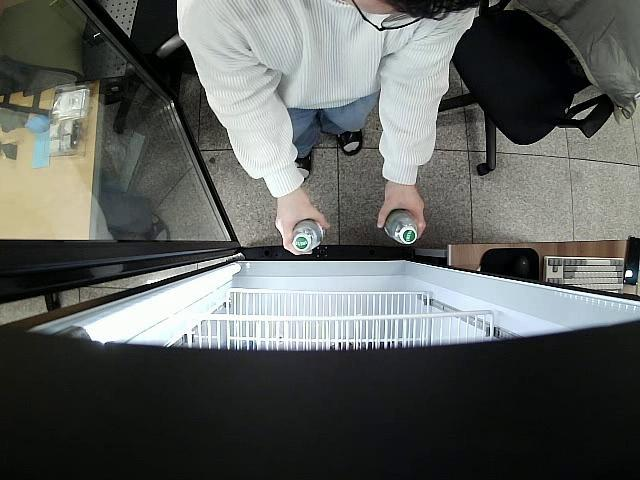18_trevi: (382, 208, 418, 247), (291, 218, 324, 253)
